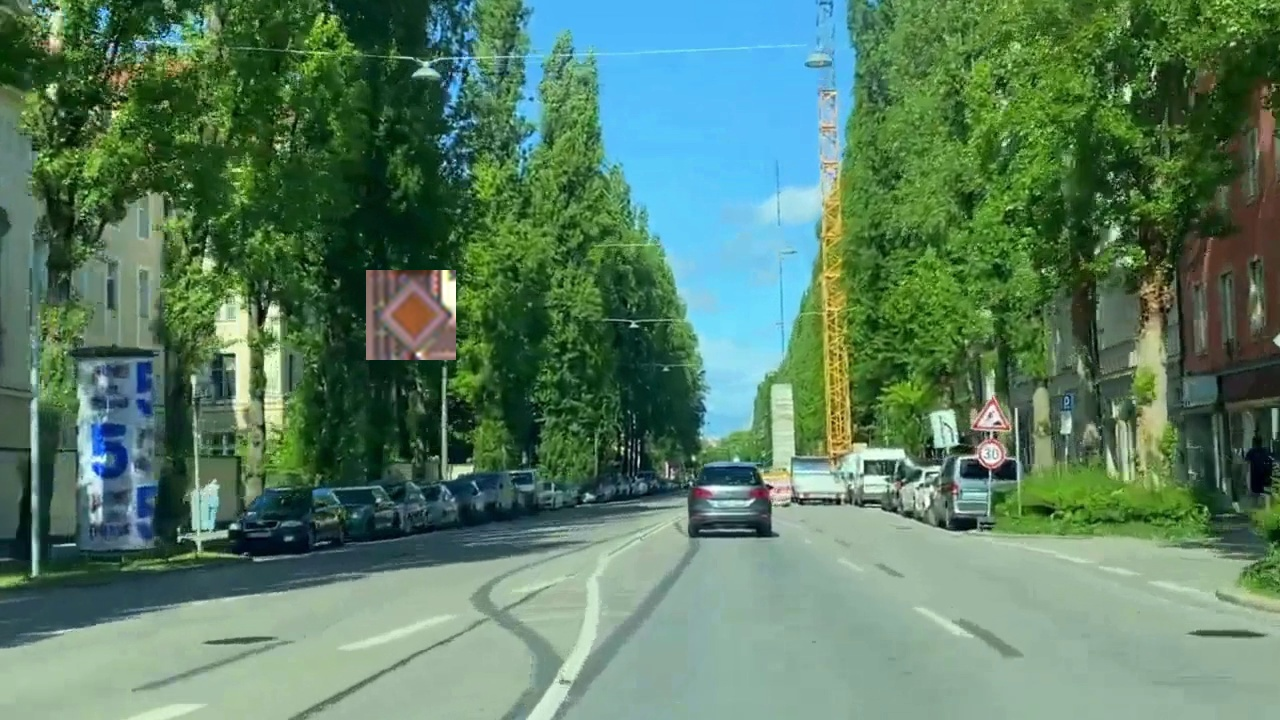Priority road: (366, 270, 456, 360)
